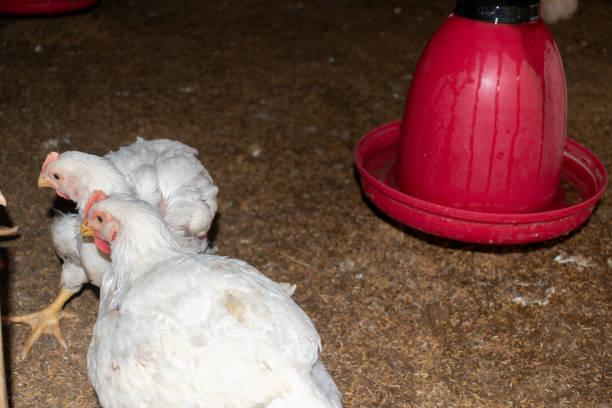AbNormal: (2, 128, 206, 353)
